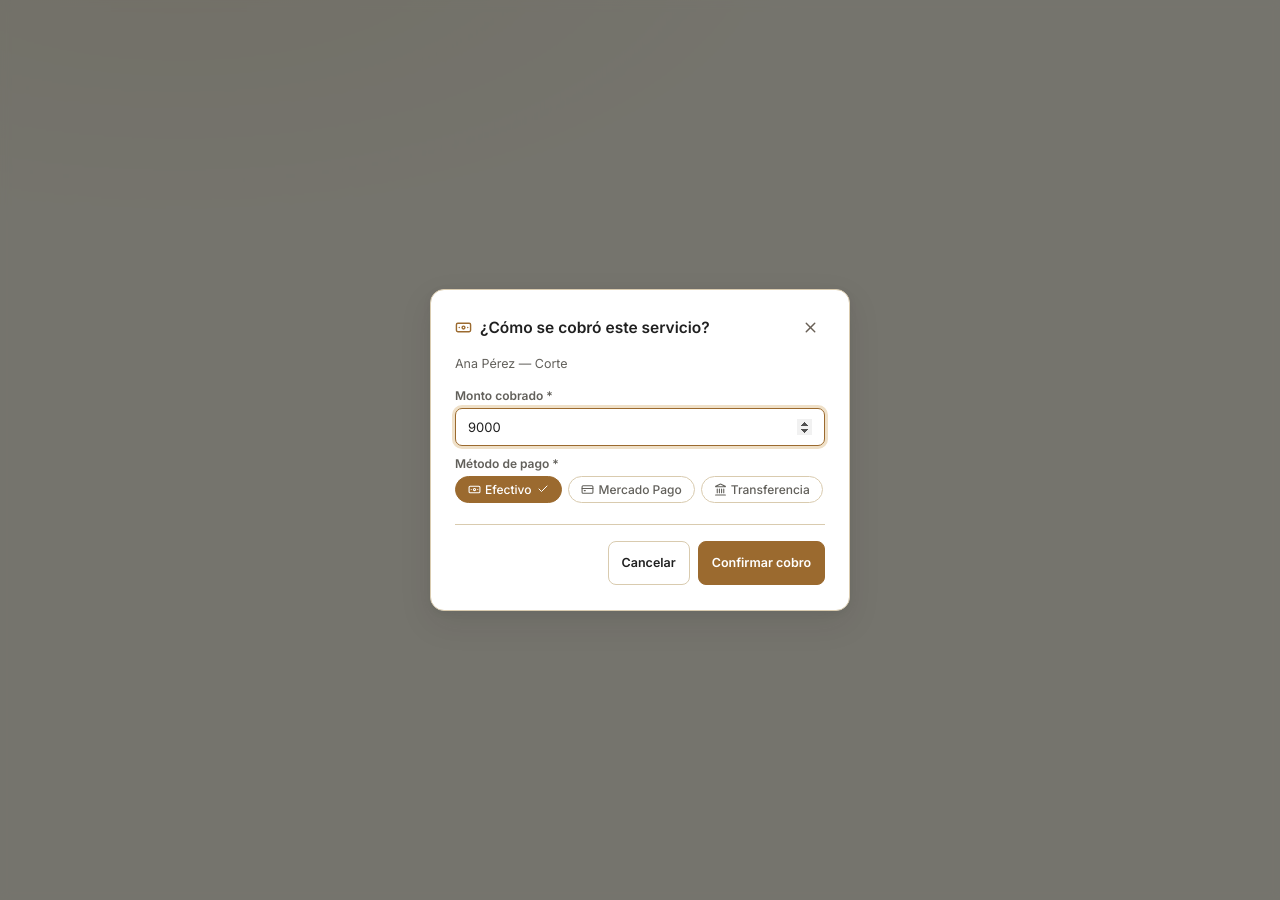
it: CobroModal › ante un rechazo del servidor muestra su motivo y conserva importe y método para reintentar
Replace the text in the number field with "4321" at [640, 427], box left=455, top=408, right=825, bottom=446
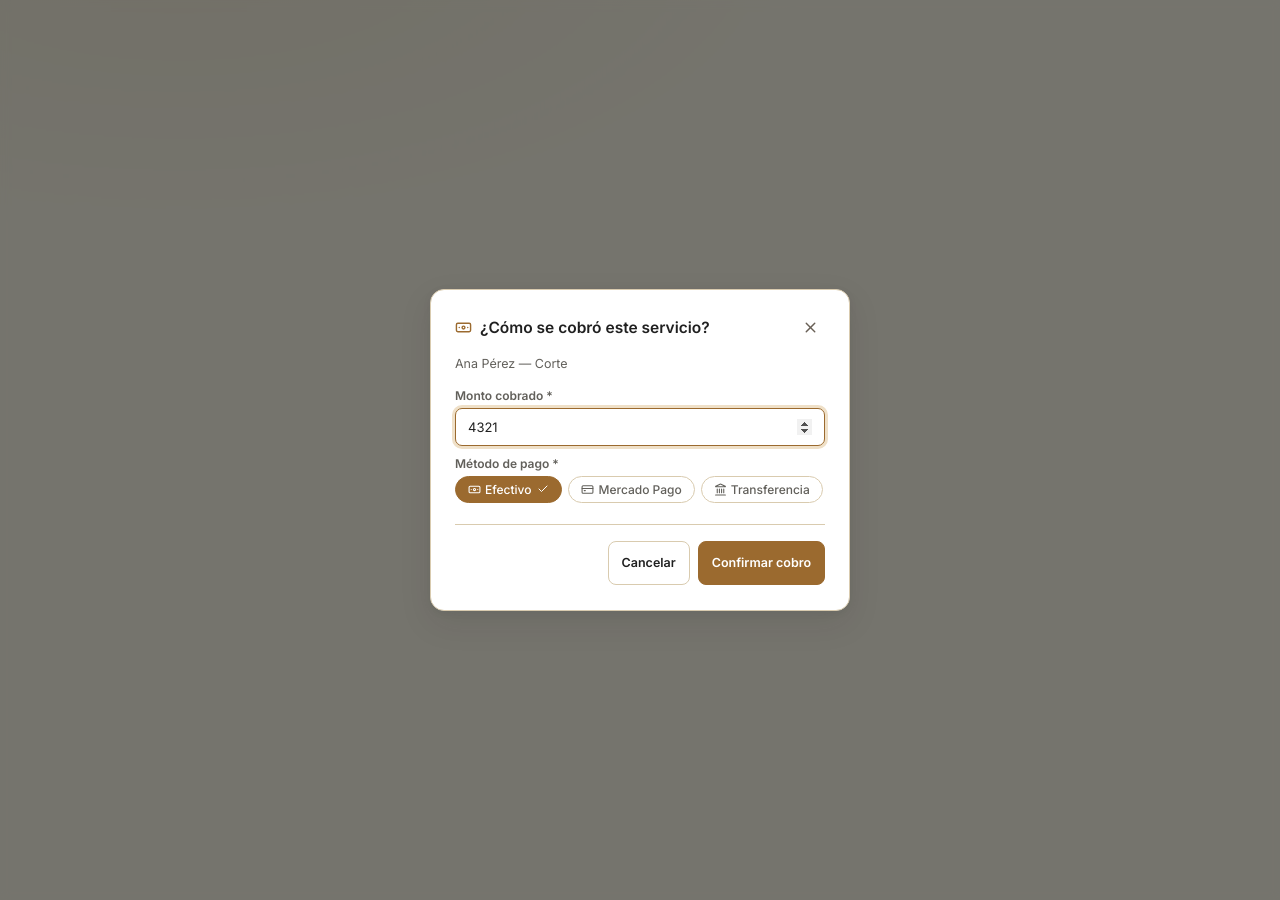
Click the button "Mercado Pago".
click(632, 490)  # box left=568, top=476, right=695, bottom=503
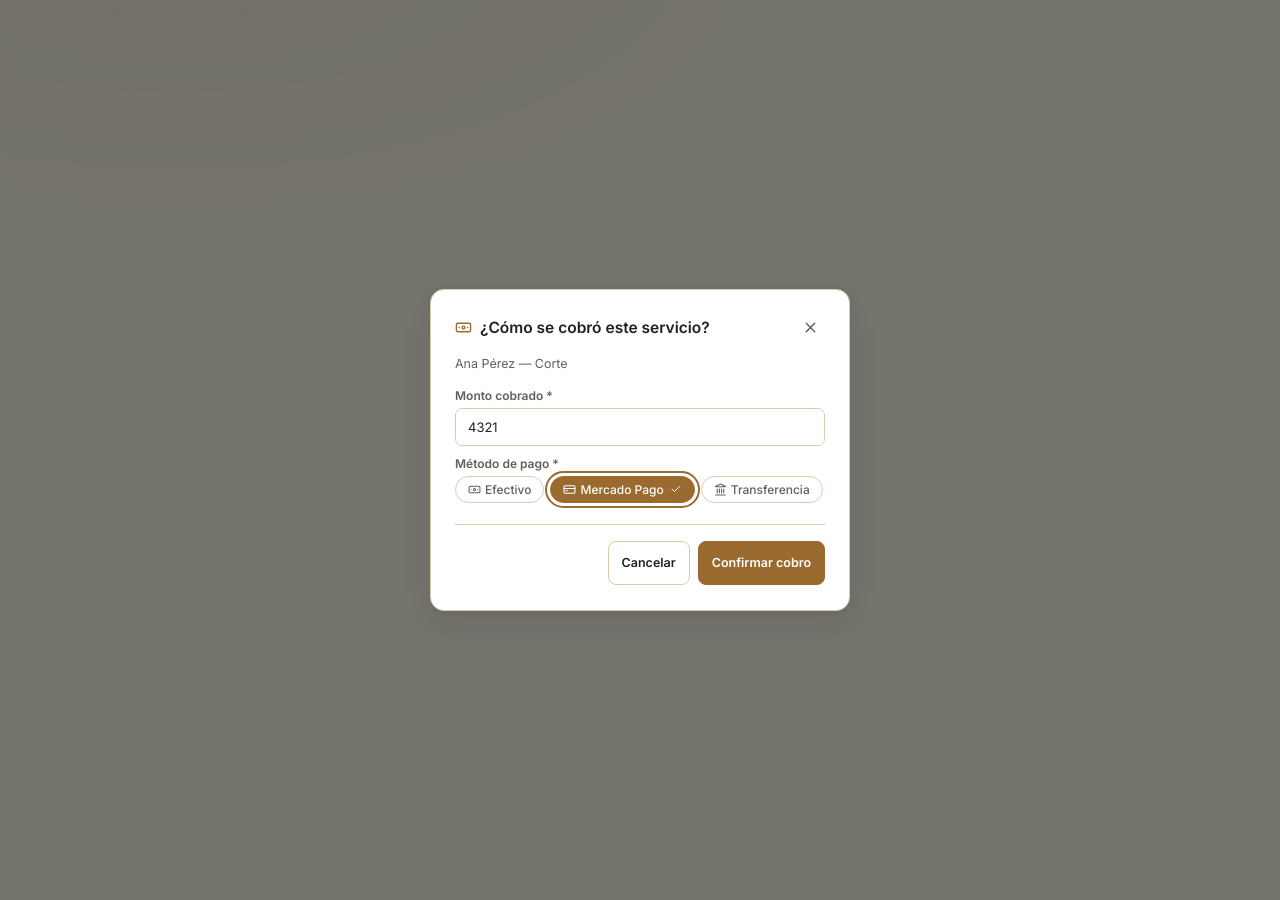
Click the button "Confirmar cobro".
click(761, 563)  # box left=698, top=541, right=825, bottom=585
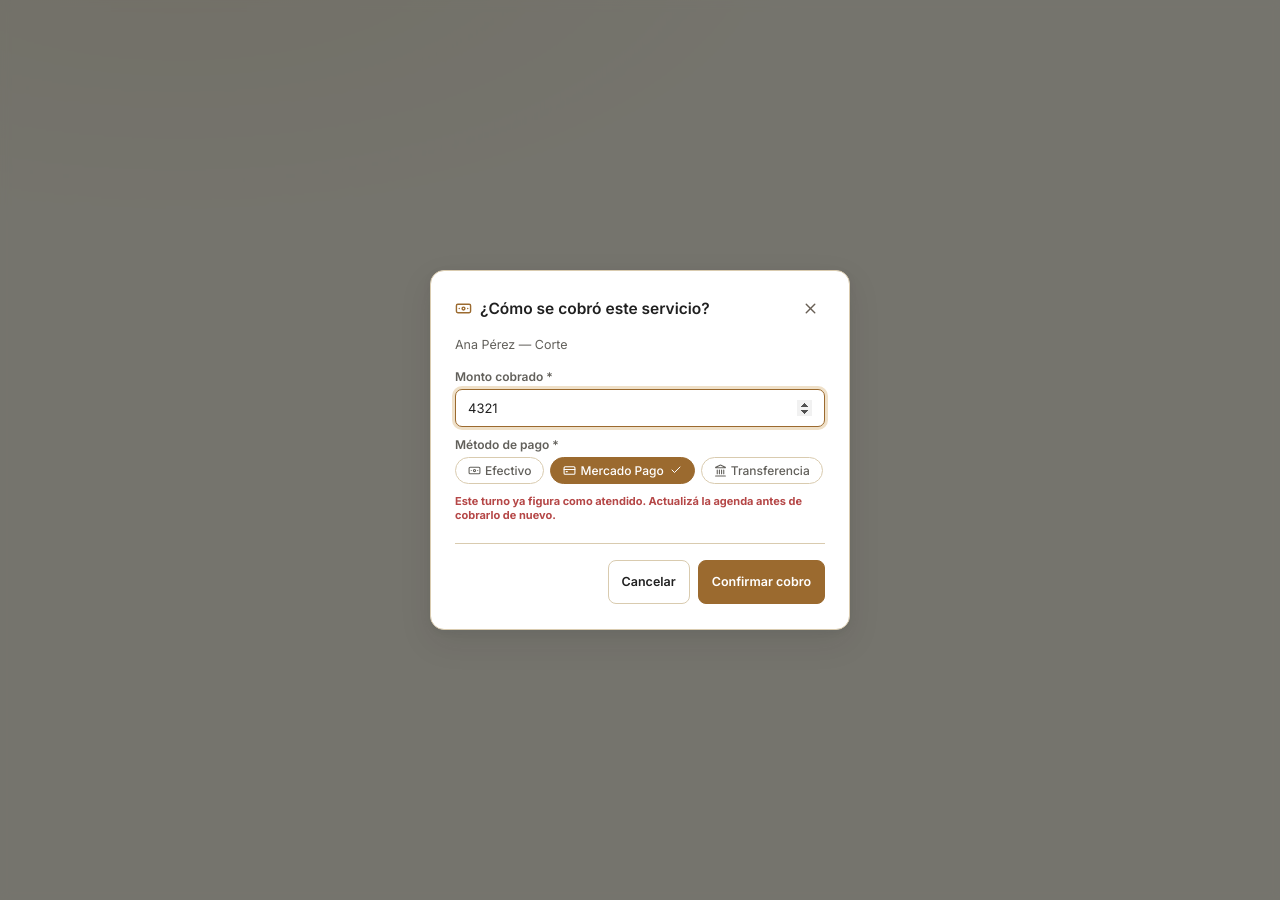
Now the message shows "ya figura como atendido", box left=455, top=494, right=802, bottom=522
Click the button "Confirmar cobro".
click(761, 582)  # box left=698, top=560, right=825, bottom=604
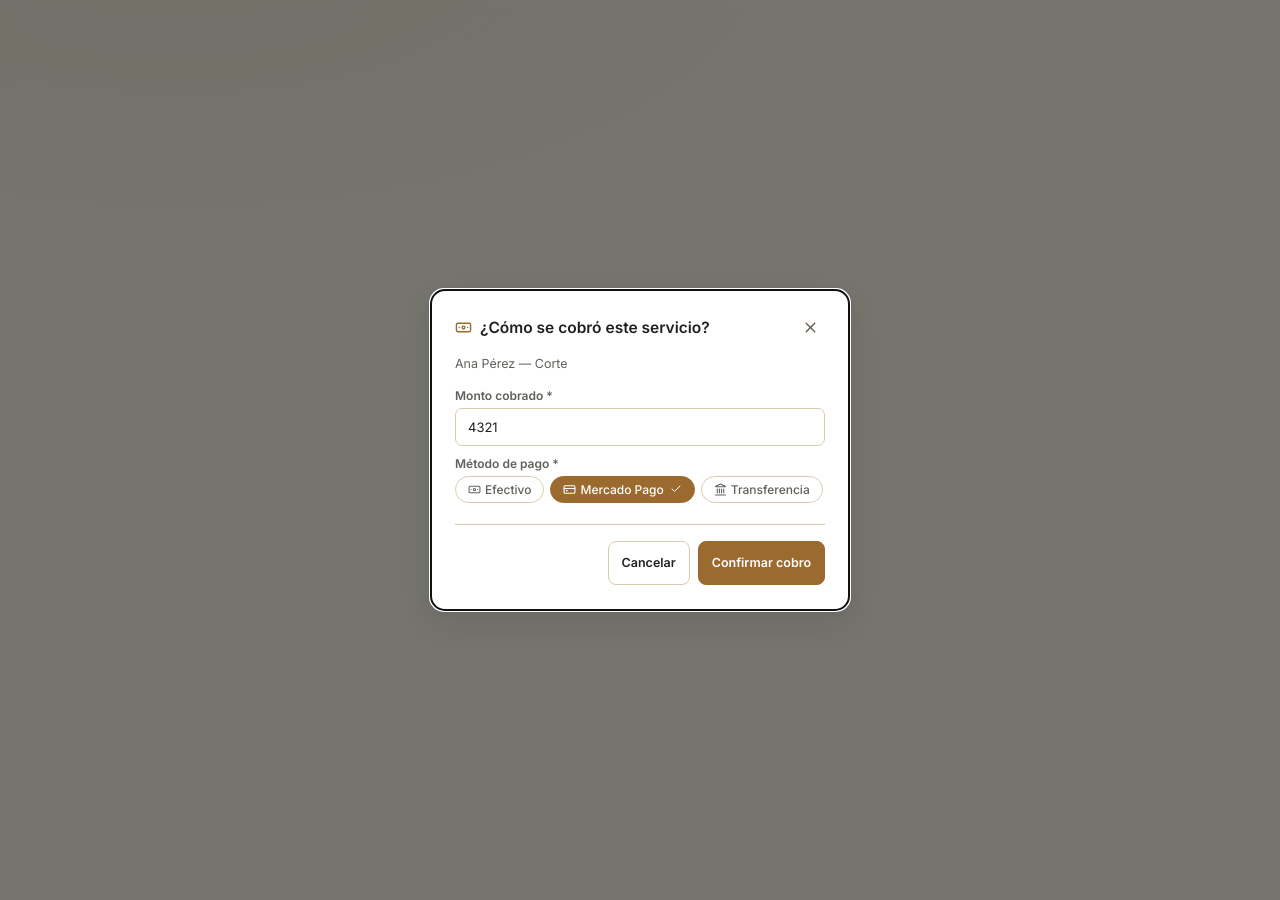
Now the message is gone
